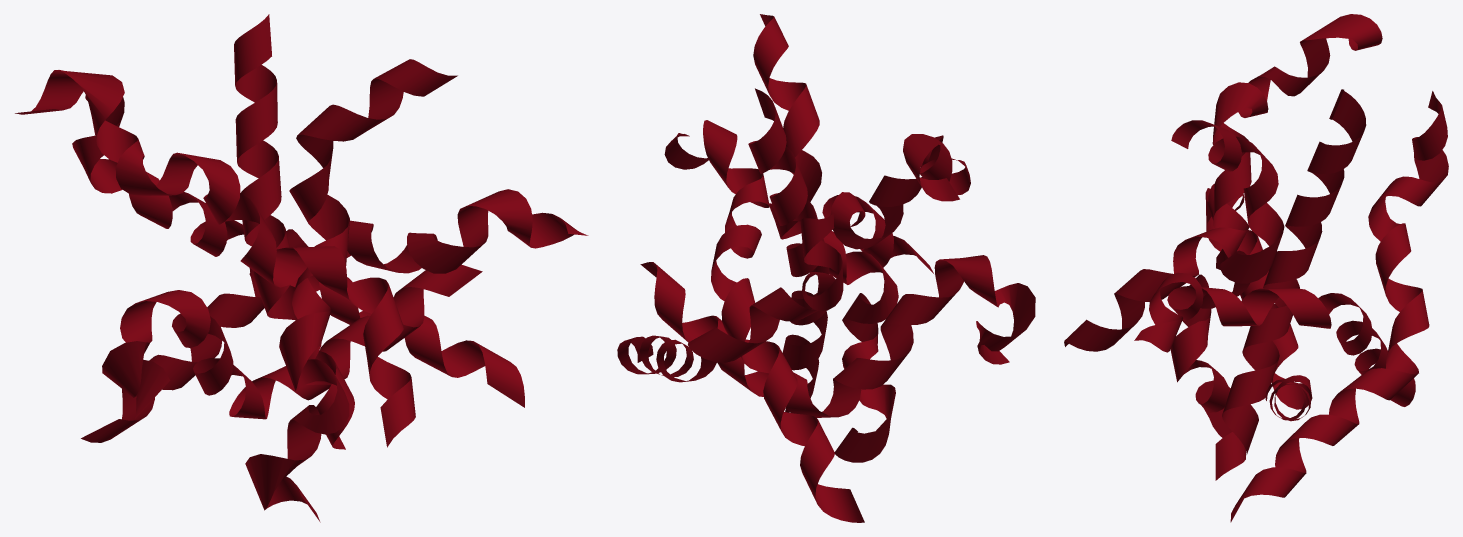
The model's file is LigaseIVmodel_test.fbx.
3 renders of one model, left to right at view 1: azimuth 30°, elevation 25°; view 2: azimuth 150°, elevation 25°; view 3: azimuth 270°, elevation 25°, orthographic. The views are drawn at different scales.
Visible parts, largest first — view 1: AlphaHelix.004, AlphaHelix.003, AlphaHelix.001, AlphaHelix.002, AlphaHelix, AlphaHelix.005; view 2: AlphaHelix.001, AlphaHelix.002, AlphaHelix.003, AlphaHelix.005, AlphaHelix.004, AlphaHelix; view 3: AlphaHelix.005, AlphaHelix.004, AlphaHelix, AlphaHelix.003, AlphaHelix.002, AlphaHelix.001.
Boxes of the visible parts, box(x1,y1,x2,y2) form: AlphaHelix.004: box(15, 70, 415, 447); AlphaHelix.003: box(245, 59, 457, 522); AlphaHelix.001: box(102, 264, 482, 419); AlphaHelix.002: box(81, 189, 588, 442); AlphaHelix: box(234, 14, 354, 449); AlphaHelix.005: box(72, 95, 524, 407); AlphaHelix.001: box(640, 255, 1035, 417); AlphaHelix.002: box(664, 120, 864, 522); AlphaHelix.003: box(753, 14, 898, 462); AlphaHelix.005: box(617, 213, 843, 382); AlphaHelix.004: box(822, 134, 970, 273); AlphaHelix: box(748, 88, 829, 412); AlphaHelix.005: box(1230, 91, 1448, 522); AlphaHelix.004: box(1064, 14, 1382, 351); AlphaHelix: box(1222, 89, 1366, 454); AlphaHelix.003: box(1170, 120, 1284, 480); AlphaHelix.002: box(1134, 272, 1415, 406); AlphaHelix.001: box(1205, 184, 1312, 421).
Bounding box in the file's own units: 403 × 392 × 341.
